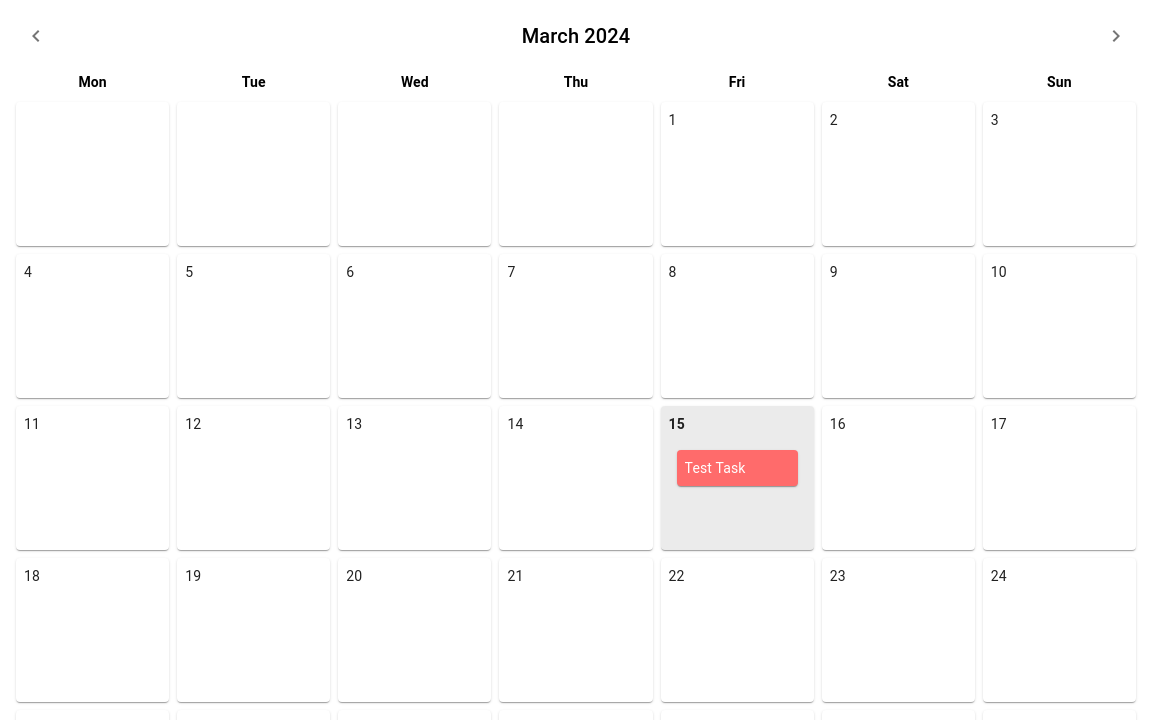
Test case: Calendar › opens task dialog when clicking on a date
Click the text "15" at (737, 478), box [661,406,814,550]
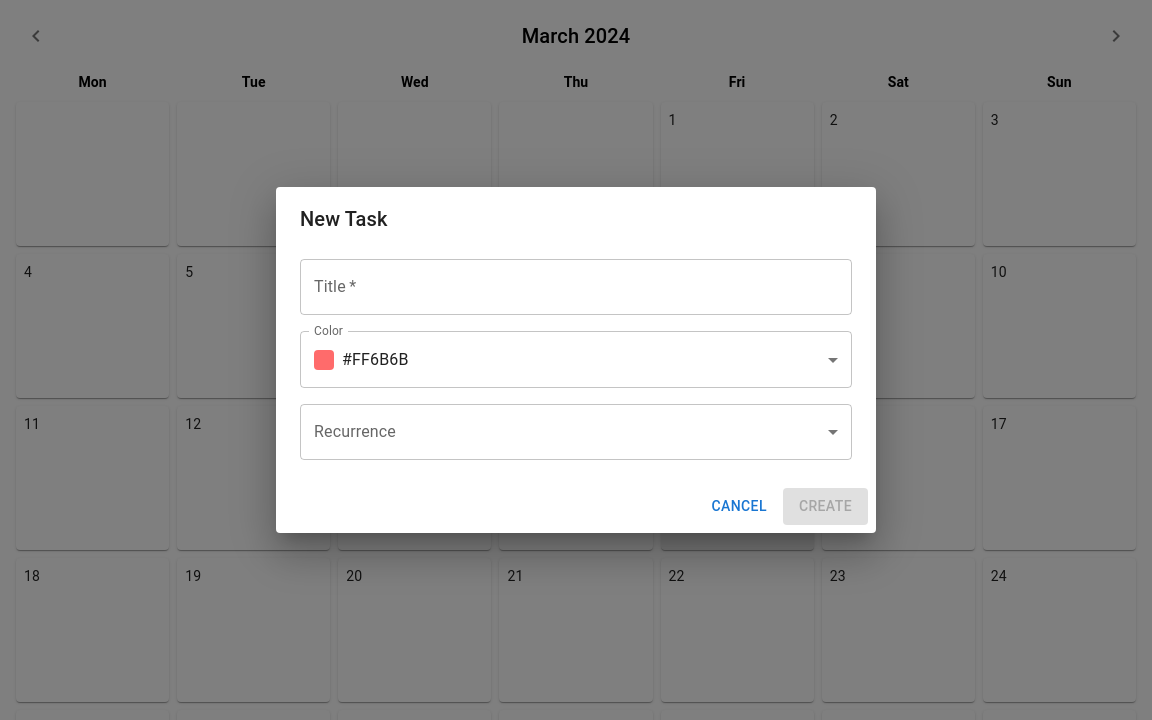
Check: the dialog is shown, box [276,187,876,533]
